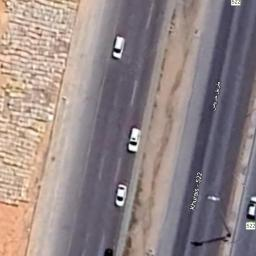SUV: (127, 126, 142, 153), (246, 196, 256, 220)
sedan: (115, 183, 128, 208)
van: (112, 35, 126, 60)
